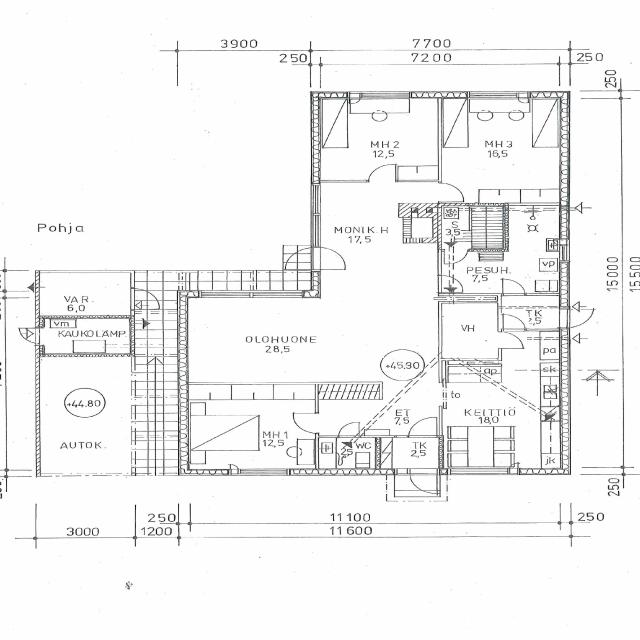door: (280, 248, 320, 270), (310, 248, 350, 270), (409, 468, 437, 494), (560, 309, 596, 328), (130, 289, 163, 309), (408, 416, 436, 438), (438, 183, 469, 202), (368, 161, 396, 182), (288, 414, 318, 433), (12, 328, 44, 344), (438, 276, 466, 292), (498, 332, 524, 348), (444, 250, 467, 268), (503, 278, 524, 296), (503, 314, 525, 331), (339, 421, 359, 438)
